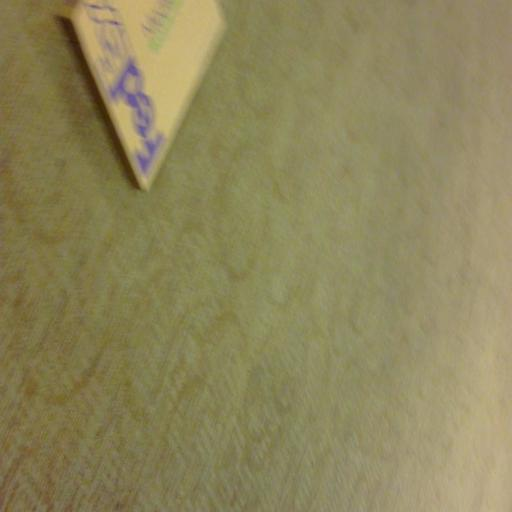Amazon: (59, 0, 208, 191)
